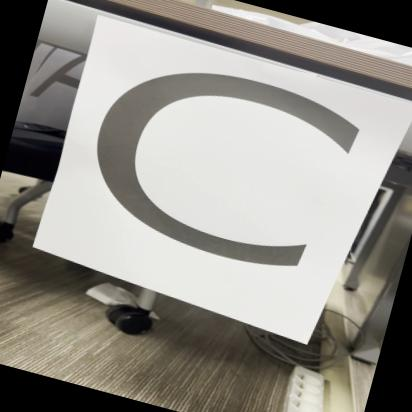seat: (36, 23, 411, 358)
